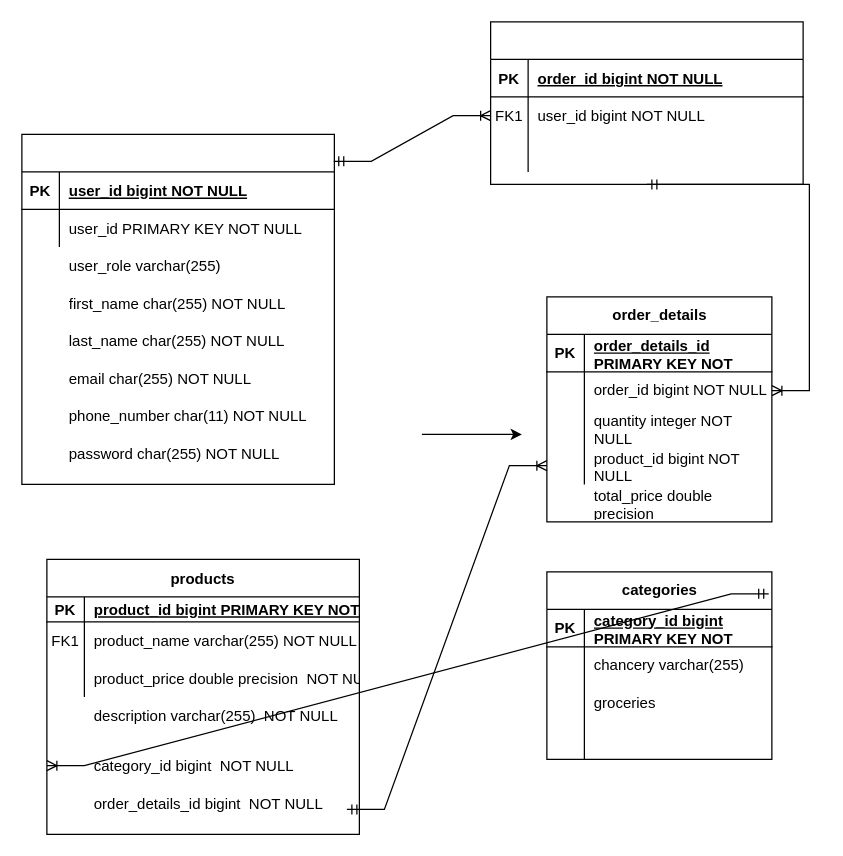
This 843x856 diagram has some shape labels left out. Here are the shapes that lost their labels. From the top down, the box of each, then its label:
(489, 21, 803, 184): orders
(21, 133, 334, 484): Users
